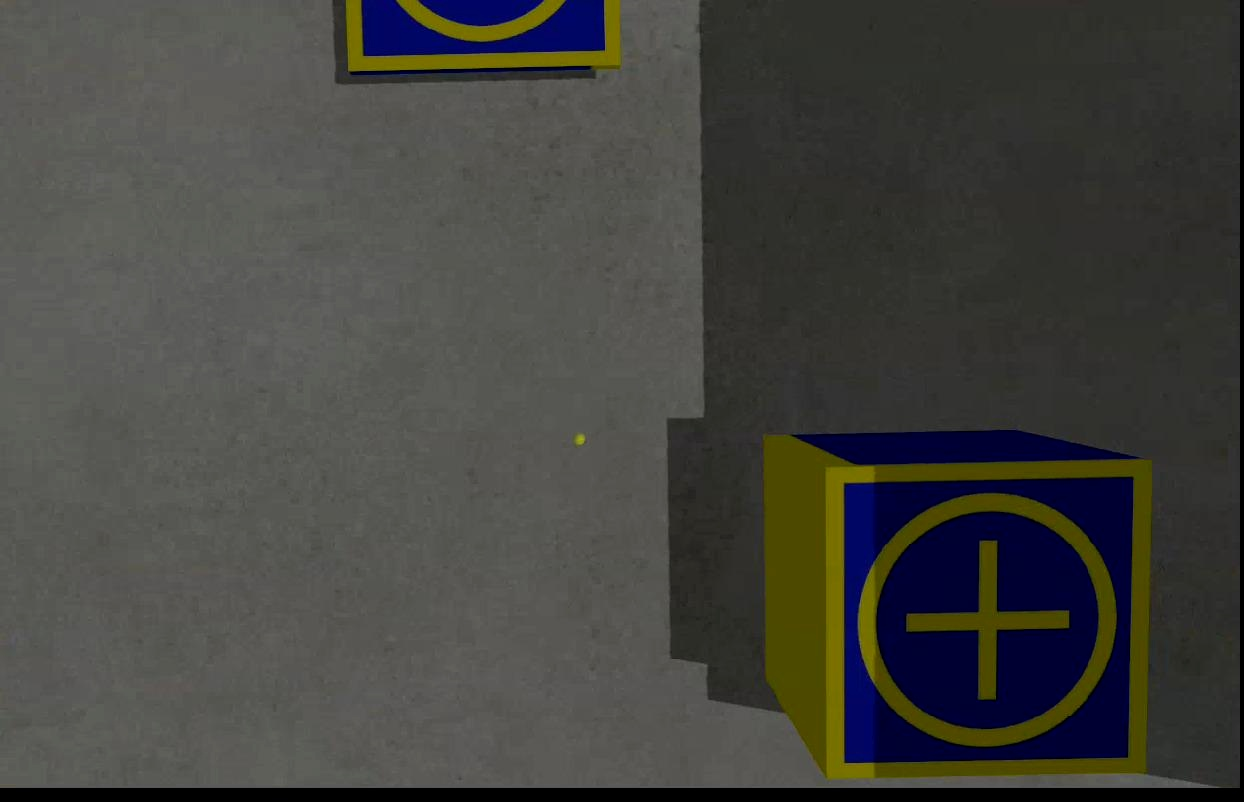small_base: (824, 462, 1147, 775), (341, 1, 623, 73)
